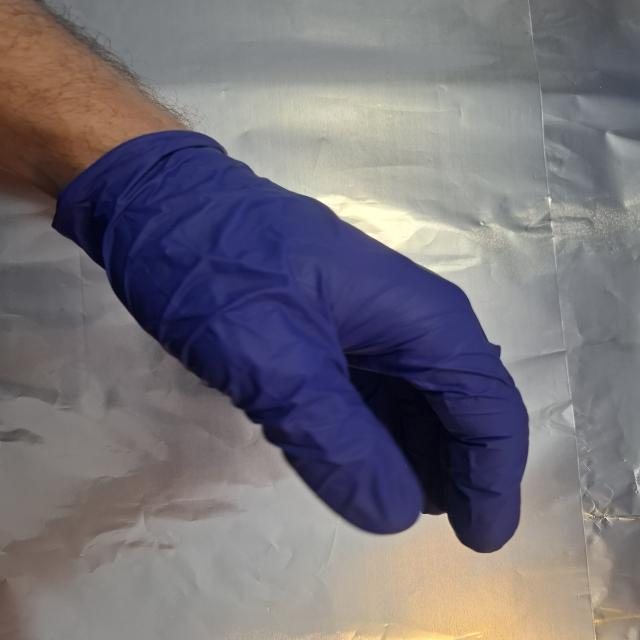glove_on: (82, 133, 534, 552)
